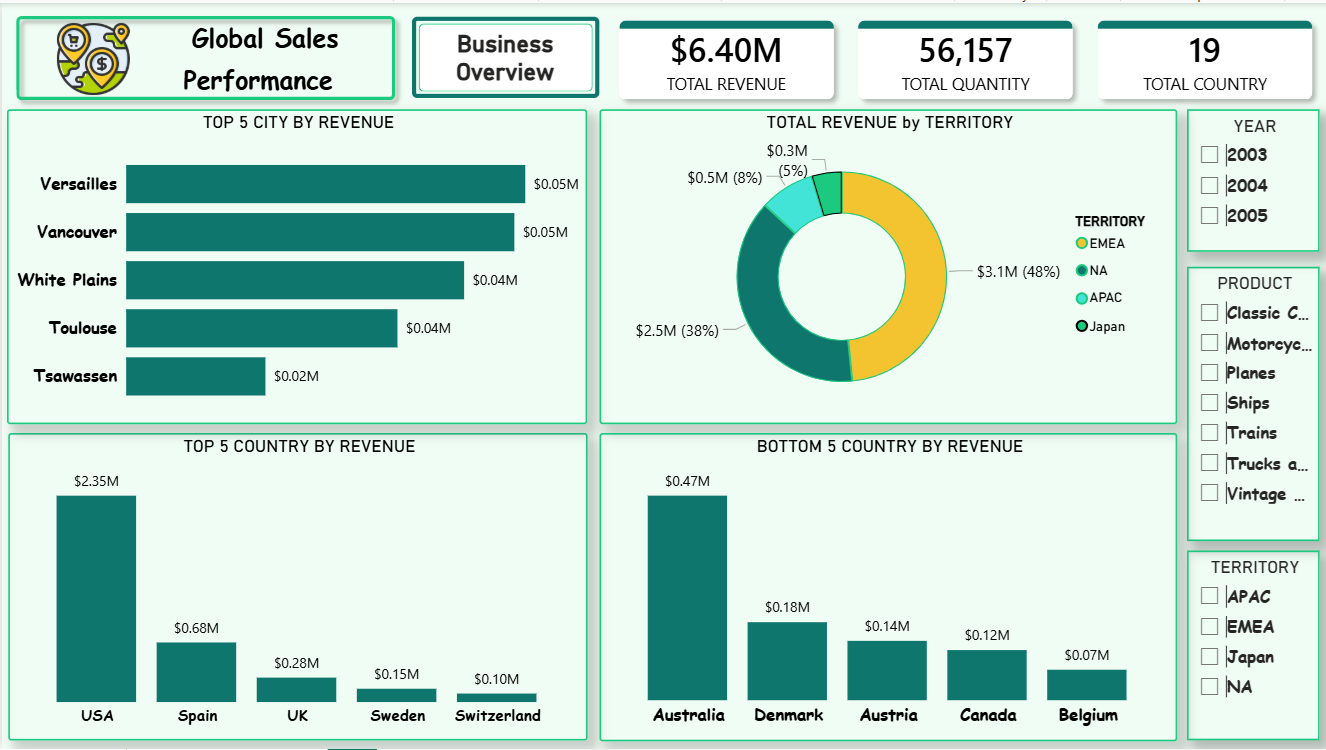

This screenshot's page, from the dashboard's own definition file:
{"tool":"powerbi","page":{"name":"Geographical Analysis","canvas":[1280,720],"ordinal":1},"visuals":[{"type":"cardVisual","fields":{"Data":["Dashboard sample.TOTAL REVENUE","Dashboard sample.TOTAL QUANTITY","Count(Dashboard sample.COUNTRY)"]},"box":[581,0,699.2,110.8],"z":0},{"type":"slicer","title":"PRODUCT","fields":{"Values":["Dashboard sample.PRODUCT_LINE"]},"box":[1143.6,254.8,128,264.7],"z":1000},{"type":"slicer","title":"YEAR","fields":{"Values":["Dashboard sample.YEAR_ID"]},"box":[1143.6,102.2,128,137.9],"z":2000},{"type":"shape","box":[4.8,3.6,383.6,98.9],"z":4000},{"type":"textbox","box":[136.3,10.9,235.3,91.7],"z":5000},{"type":"image","box":[31.4,16.9,113.4,74.8],"z":6000},{"type":"columnChart","title":"TOP 5 COUNTRY BY REVENUE","fields":{"Category":["Dashboard sample.COUNTRY"],"Y":["Dashboard sample.TOTAL REVENUE"]},"box":[6.2,414.9,558.9,296.7],"z":8000},{"type":"clusteredBarChart","title":"TOP 5 CITY BY REVENUE","fields":{"Category":["Dashboard sample.CITY"],"Y":["Dashboard sample.TOTAL REVENUE"]},"box":[4.8,102.5,559.8,304],"z":9000},{"type":"donutChart","fields":{"Category":["Dashboard sample.TERRITORY"],"Y":["Dashboard sample.TOTAL REVENUE"]},"box":[576.1,102.2,557.6,304.1],"z":10000},{"type":"columnChart","title":"BOTTOM 5 COUNTRY BY REVENUE","fields":{"Category":["Dashboard sample.COUNTRY"],"Y":["Dashboard sample.TOTAL REVENUE"]},"box":[576.1,414.9,557.6,297.9],"z":11000},{"type":"pageNavigator","box":[395.2,13.5,181,78.8],"z":11001},{"type":"slicer","title":"TERRITORY","fields":{"Values":["Dashboard sample.TERRITORY"]},"box":[1143.6,528.1,128,183.4],"z":11002}]}

Visuals, with their boxes in screenshot pixels (x1, y1, x2, y2), scaled from the page's 1280x720 canvas onto the 1326x750 screenshot:
cardVisual - Dashboard sample.TOTAL REVENUE x Dashboard sample.TOTAL QUANTITY: 602/0/1325/115
"PRODUCT" slicer: 1185/265/1317/541
"YEAR" slicer: 1185/106/1317/250
shape: 5/4/402/107
textbox: 141/11/385/107
image: 33/18/150/96
"TOP 5 COUNTRY BY REVENUE" columnChart: 6/432/585/741
"TOP 5 CITY BY REVENUE" clusteredBarChart: 5/107/585/423
donutChart - Dashboard sample.TERRITORY x Dashboard sample.TOTAL REVENUE: 597/106/1174/423
"BOTTOM 5 COUNTRY BY REVENUE" columnChart: 597/432/1174/742
pageNavigator: 409/14/597/96
"TERRITORY" slicer: 1185/550/1317/741
